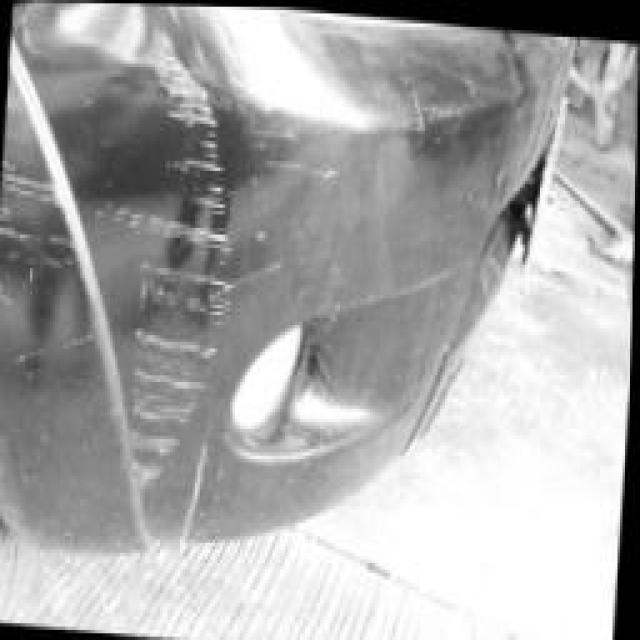Bumper: (80, 40, 426, 554)
